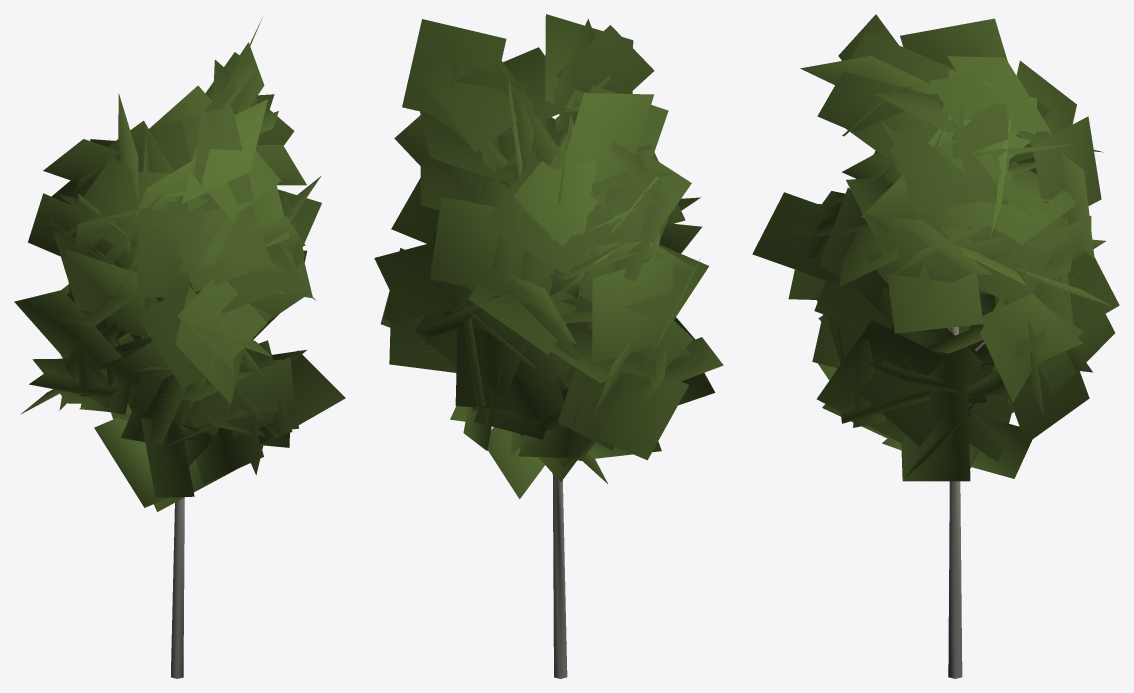
File: SM_Brzoza_1.glb
3 views of the same model, side by side, from view 1: azimuth 30°, elevation 25°; view 2: azimuth 150°, elevation 25°; view 3: azimuth 270°, elevation 25° (orthographic). The views are drawn at different scales.
Parts seen in each view (by area): view 1: SM_Brzoza_1; view 2: SM_Brzoza_1; view 3: SM_Brzoza_1.
Part boxes in pixels (x1,y1,x2,y2): SM_Brzoza_1: [14, 18, 345, 678]; SM_Brzoza_1: [374, 14, 723, 678]; SM_Brzoza_1: [752, 14, 1119, 678].
Bounding box in the file's own units: 8.01 × 15.87 × 7.81.
